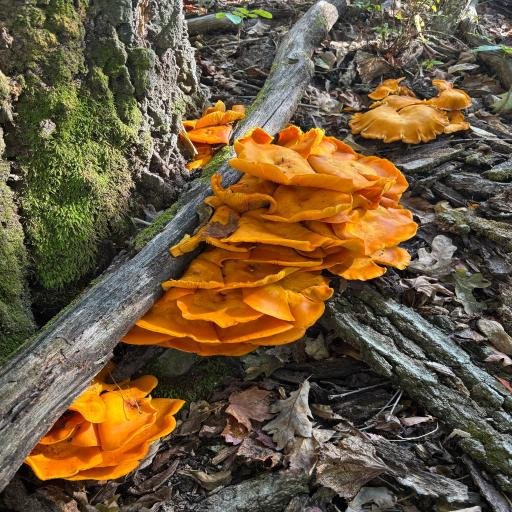Jack O Lantern Mushroom: (178, 166, 422, 277), (115, 262, 341, 359), (21, 371, 190, 485), (234, 126, 401, 199), (344, 78, 481, 142), (171, 96, 256, 163)
